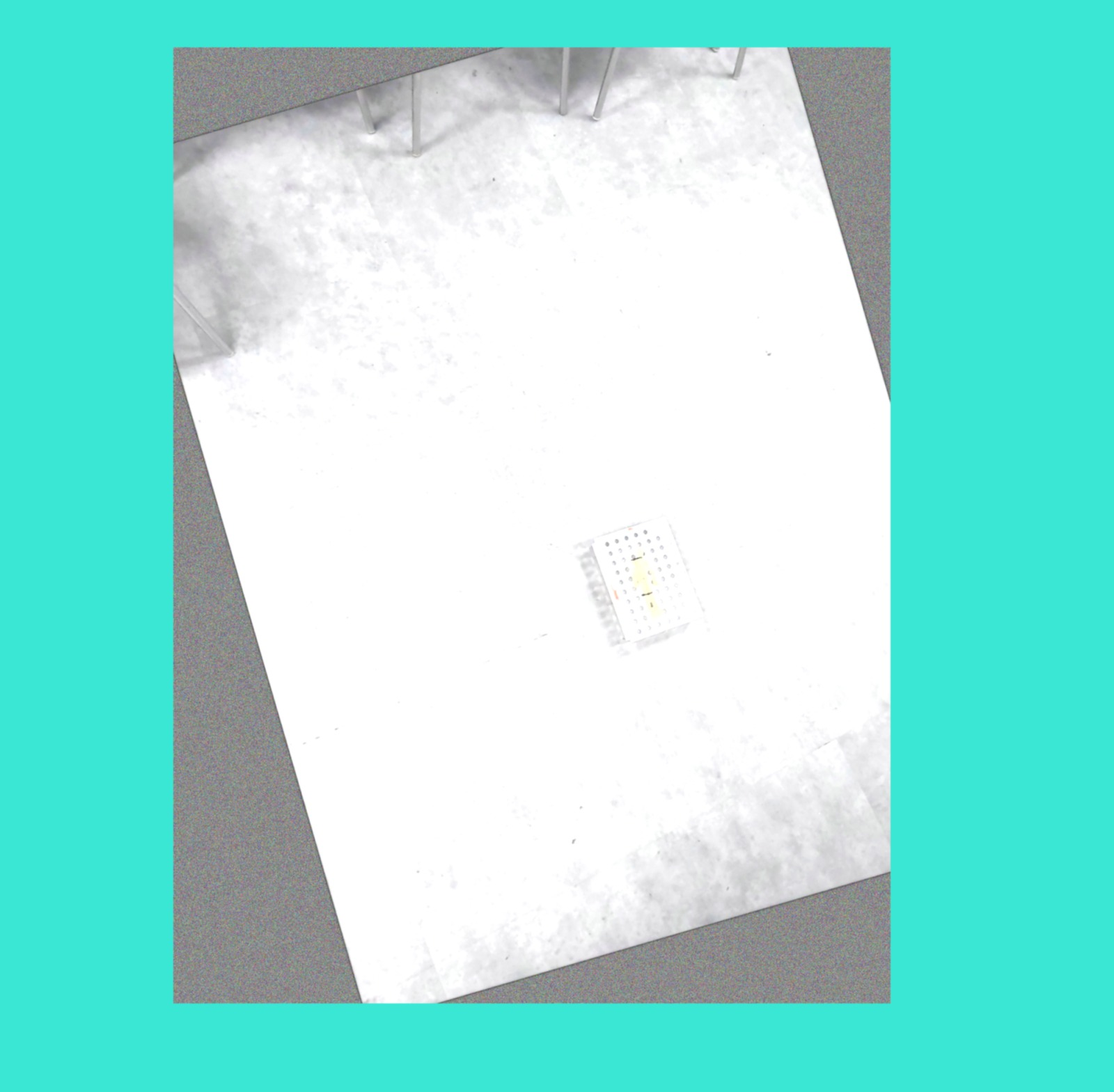basket: (588, 516, 709, 644)
mannequin: (629, 547, 664, 619)
